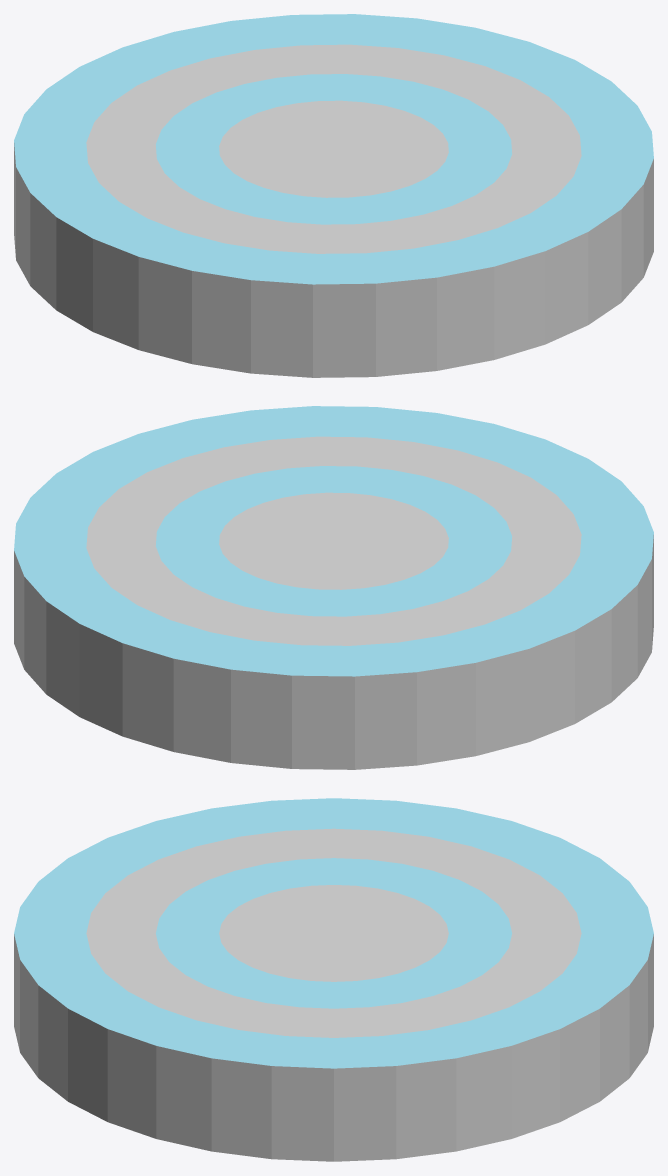
File: finishPlatform.fbx
3 renders of one model, top to bottom at view 1: azimuth 30°, elevation 25°; view 2: azimuth 150°, elevation 25°; view 3: azimuth 270°, elevation 25°, orthographic.
Parts seen in each view (by area): view 1: Cylinder; view 2: Cylinder; view 3: Cylinder.
Boxes of the visible parts, bbox=[...] form: Cylinder: bbox=[14, 14, 653, 377]; Cylinder: bbox=[14, 406, 653, 769]; Cylinder: bbox=[14, 798, 653, 1161].
Bounding box in the file's own units: 557 × 89.5 × 557.
